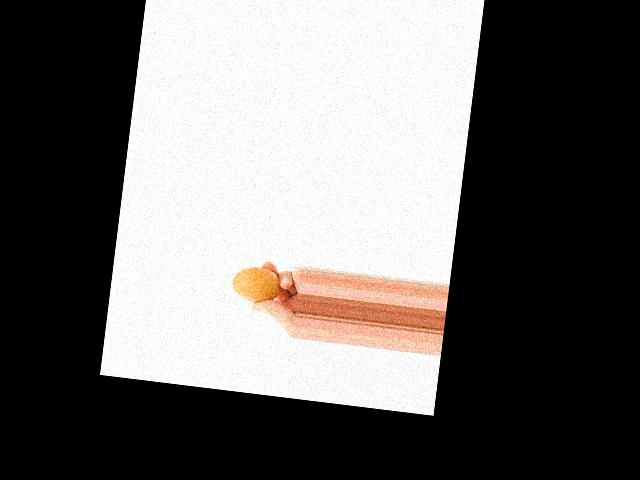egg: (230, 263, 281, 305)
